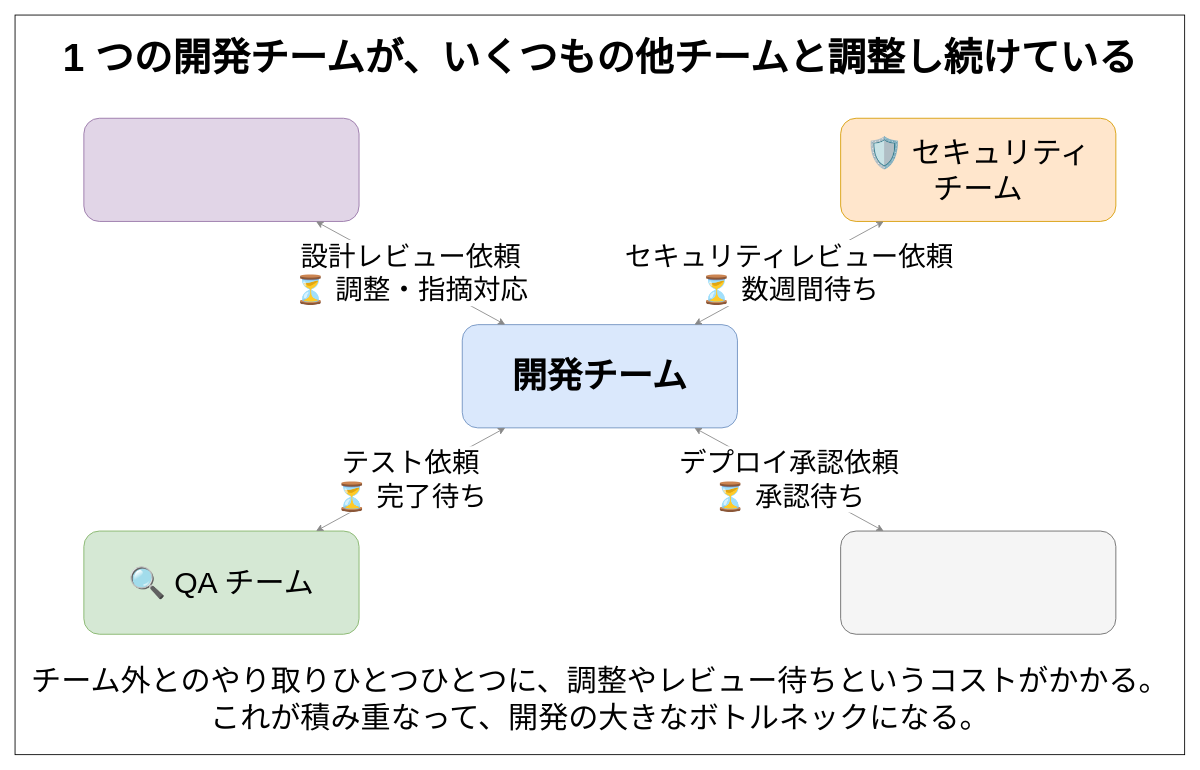
The diagram is 1200 pixels wide and 770 high, and some of its shapes have lost their labels. The box of each missing label's shape, as (x1, y1, x2, y2) in pixels:
🏛️ アーキテクチャ の精鋭: (83, 117, 359, 221)
👔 上長 （デプロイ承認）: (840, 530, 1116, 634)
